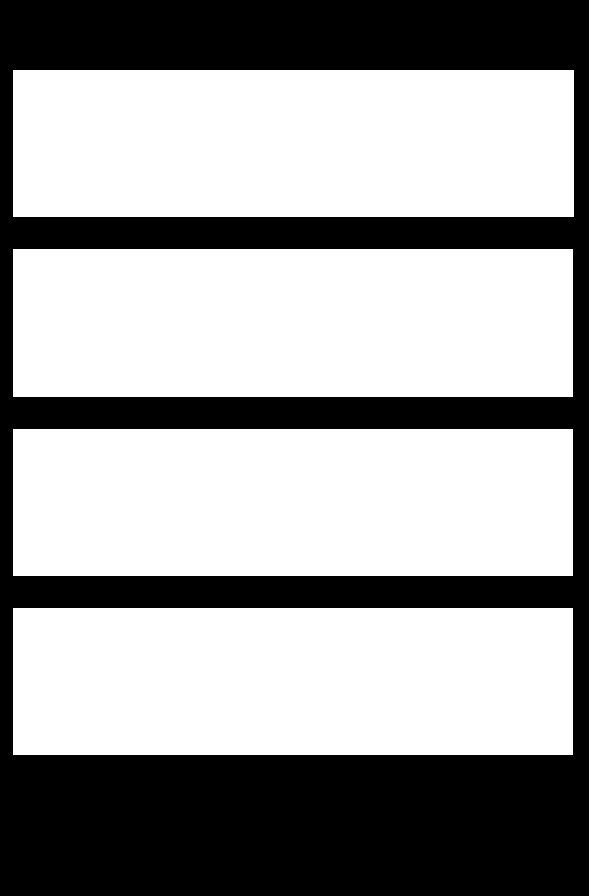table: (13, 249, 572, 396), (13, 70, 573, 216), (13, 429, 572, 575), (13, 608, 572, 754)
